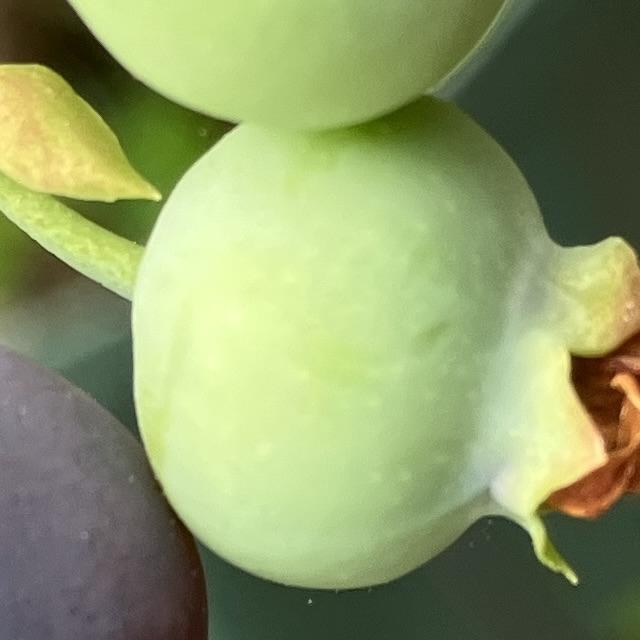Blueberries: (126, 93, 640, 593), (4, 0, 640, 130)
